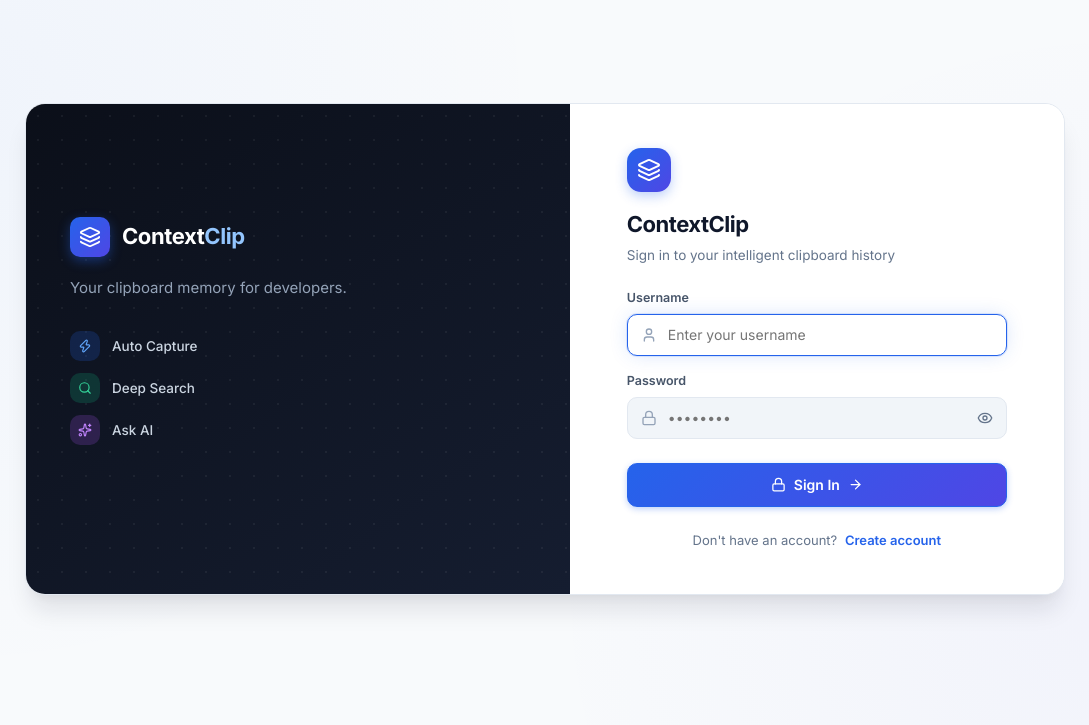
Test: ContextClip Authentication and Application UI Tests › 1. Authentication Flow (Login & Register) › 6. Password confirmation mismatch shows friendly error
Click the button with test id "link-to-register" at {"x": 893, "y": 540}, box [845,532,941,548]
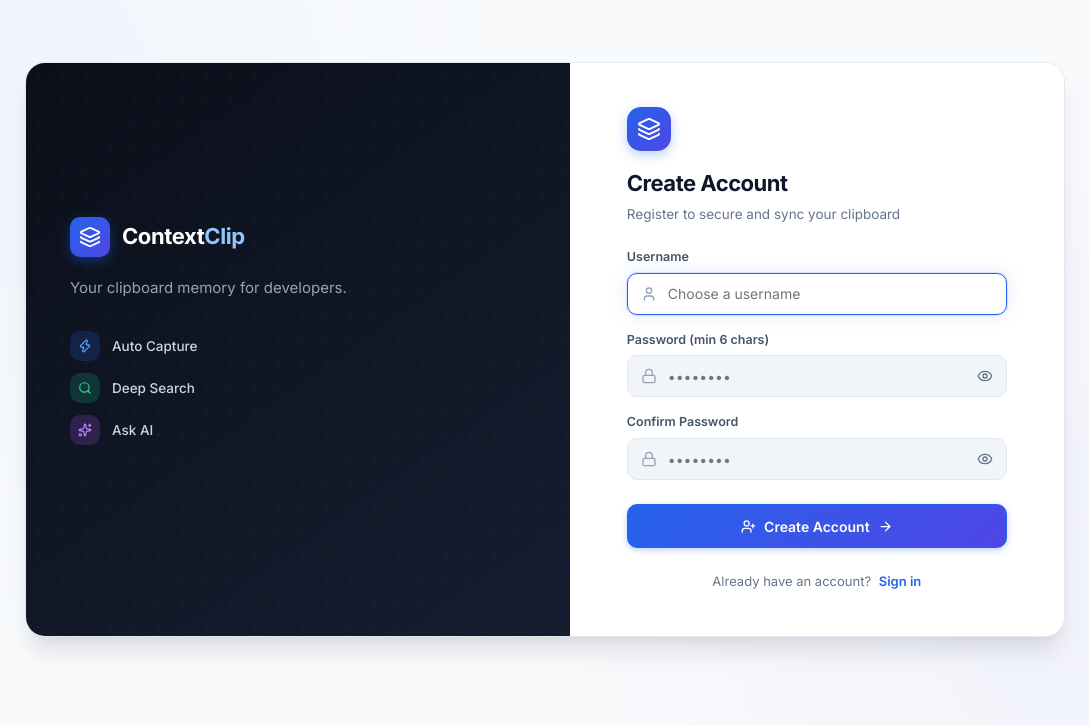
Type "prem" into the field with test id "register-username" at {"x": 817, "y": 294}, box [627,272,1007,314]
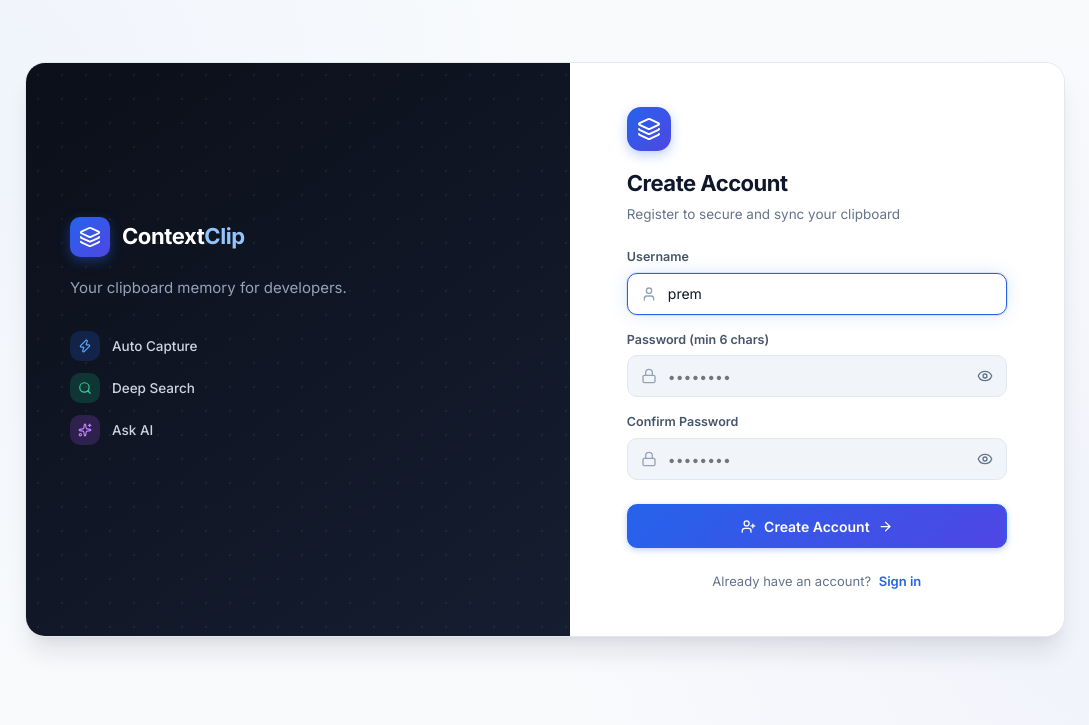
Type "Password123!" into the password field with test id "register-password" at {"x": 817, "y": 376}, box [627,355,1007,397]
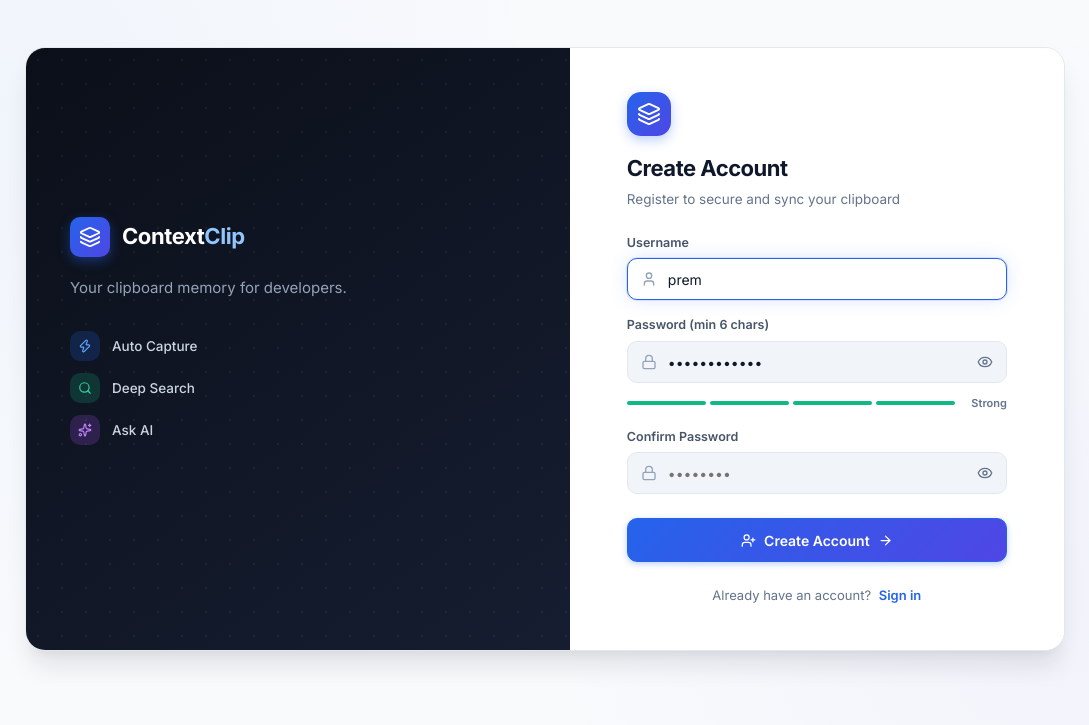
Type "DifferentPassword!" into the password field with test id "register-confirm-password" at {"x": 817, "y": 473}, box [627,452,1007,494]
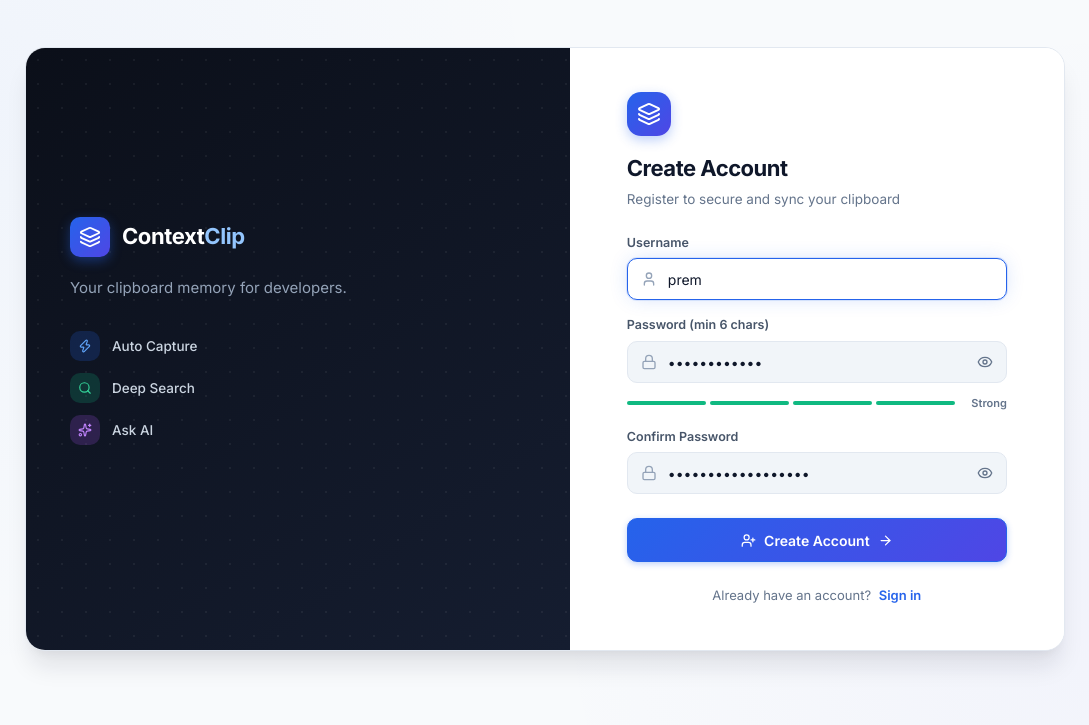
Click the button with test id "register-submit" at {"x": 817, "y": 540}, box [627,518,1007,562]
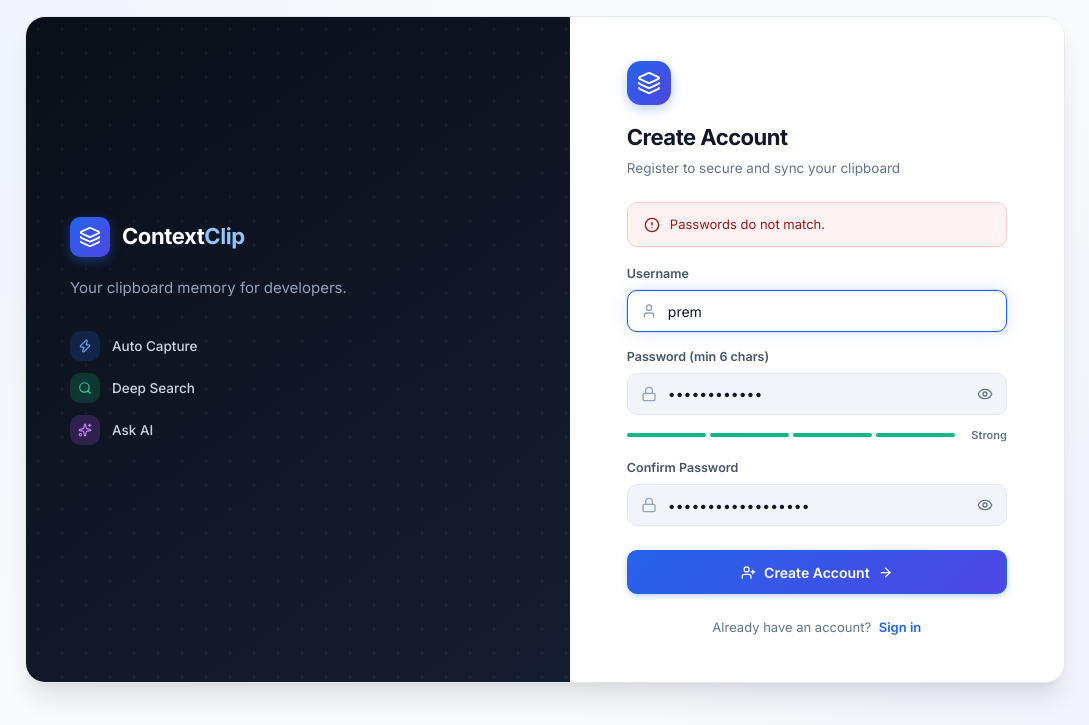
Now the message "Passwords do not match." is shown, box [627,202,1007,247]
Now the text "Passwords do not match." is shown, box [670,215,825,234]
